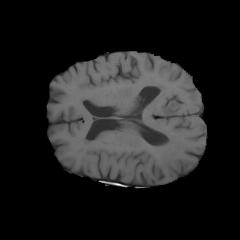glioma: (154, 135, 186, 169)
